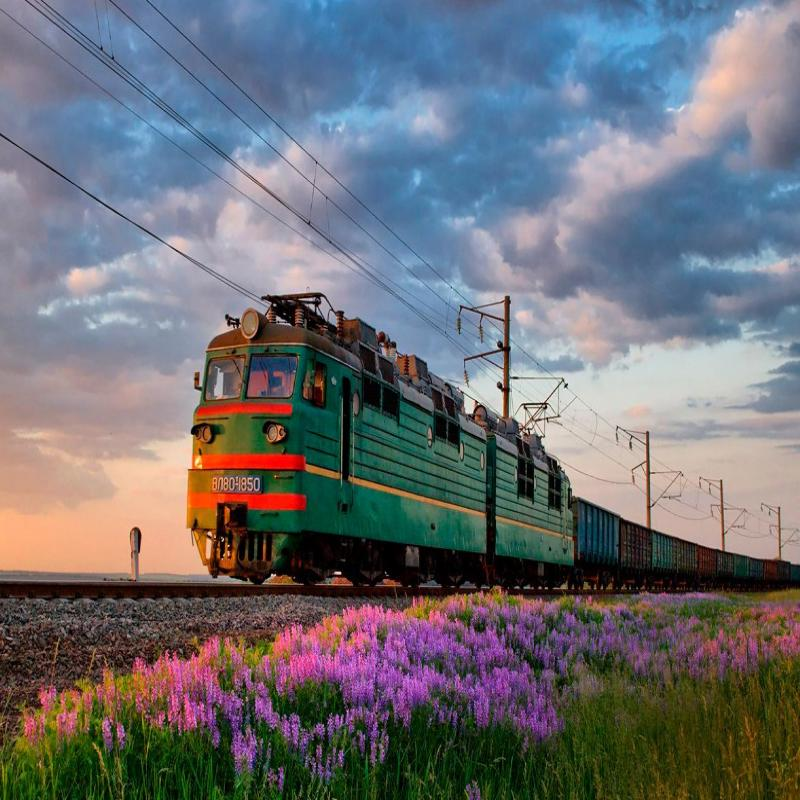train: (183, 260, 580, 635), (560, 493, 629, 608), (616, 510, 686, 601)
